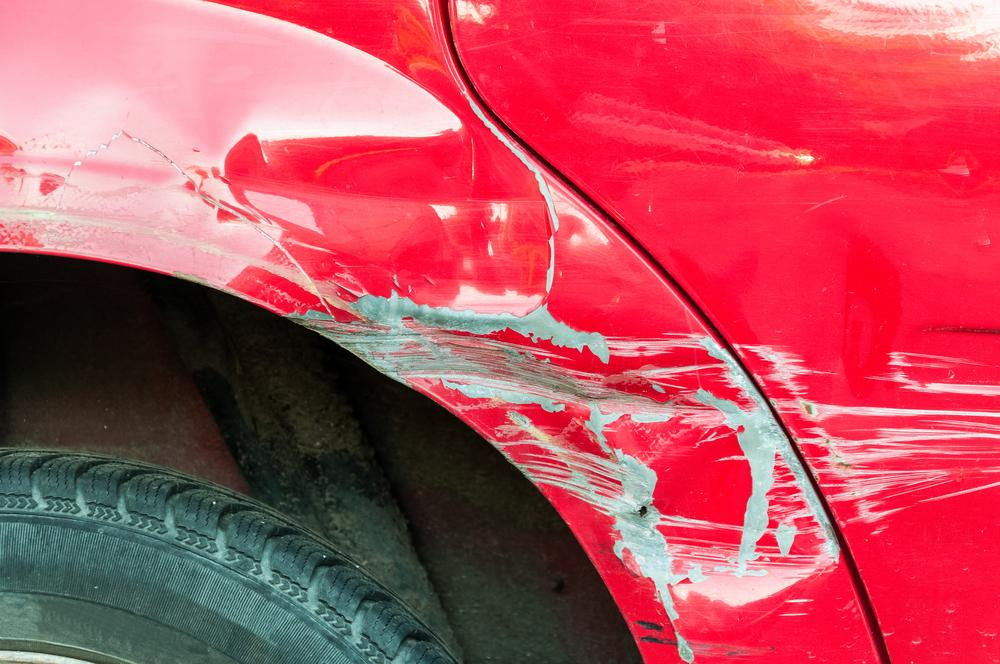dent: (222, 124, 555, 323)
scratch: (296, 303, 838, 600), (734, 317, 1000, 531)
